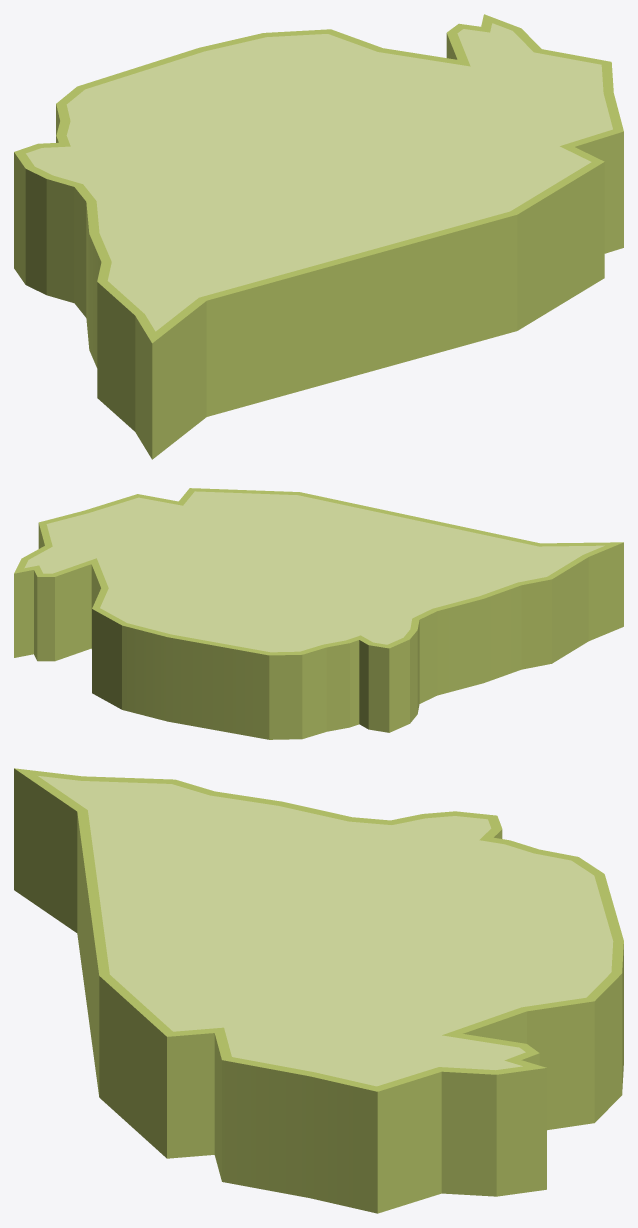
File: Islands1.001.fbx
The picture shows the model from 3 angles, top to bottom: view 1: azimuth 30°, elevation 25°; view 2: azimuth 150°, elevation 25°; view 3: azimuth 270°, elevation 25°; orthographic projection. The views are drawn at different scales.
Visible parts, largest first — view 1: Island1.001; view 2: Island1.001; view 3: Island1.001.
Boxes of the visible parts, <box> form: Island1.001: <box>14,14,623,459</box>; Island1.001: <box>14,488,623,739</box>; Island1.001: <box>14,768,623,1213</box>.
Size of the model in its own units: 142 by 25 by 113.
